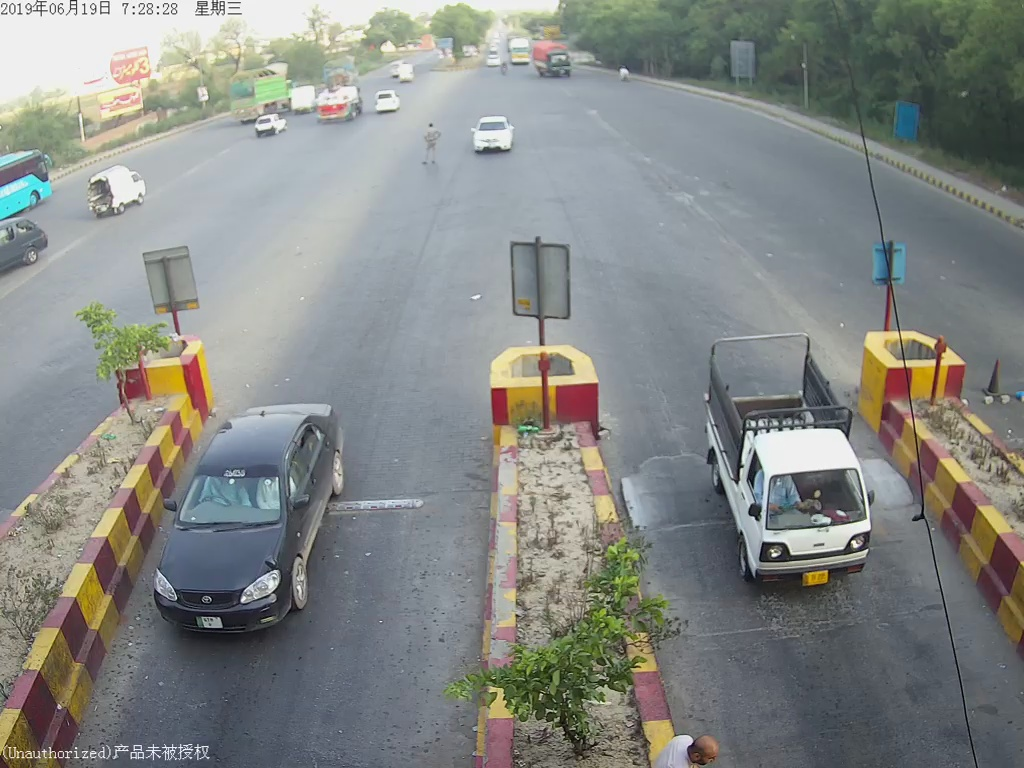Cat-1: (146, 397, 364, 647), (698, 314, 879, 597), (464, 114, 517, 157)
